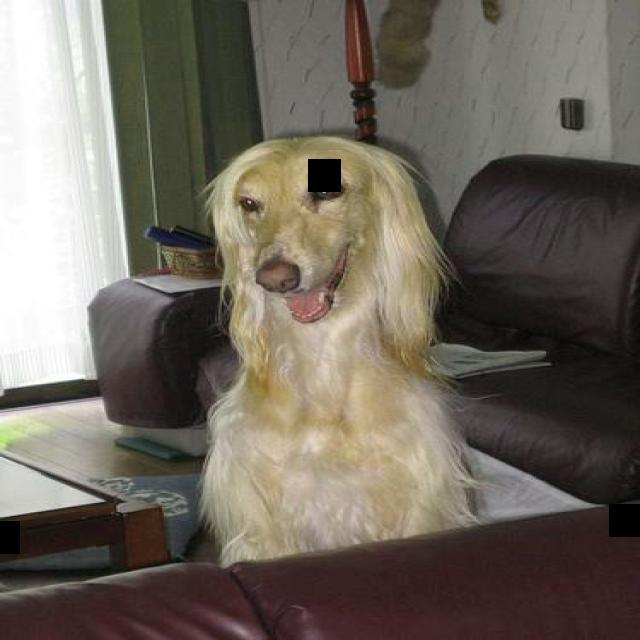adult_dog: (194, 129, 481, 566)
